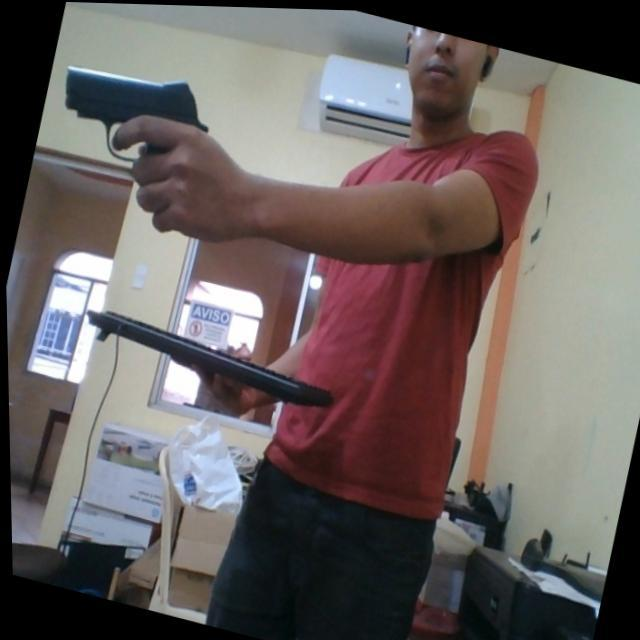weapon: (46, 42, 220, 178)
